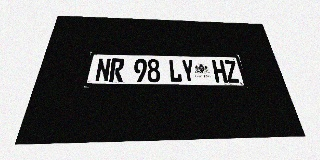8: (147, 59, 160, 82)
9: (133, 59, 147, 82)
H: (212, 60, 228, 83)
L: (168, 59, 182, 82)
N: (94, 58, 111, 82)
R: (109, 58, 124, 82)
Y: (181, 59, 195, 82)
Z: (223, 60, 240, 83)
